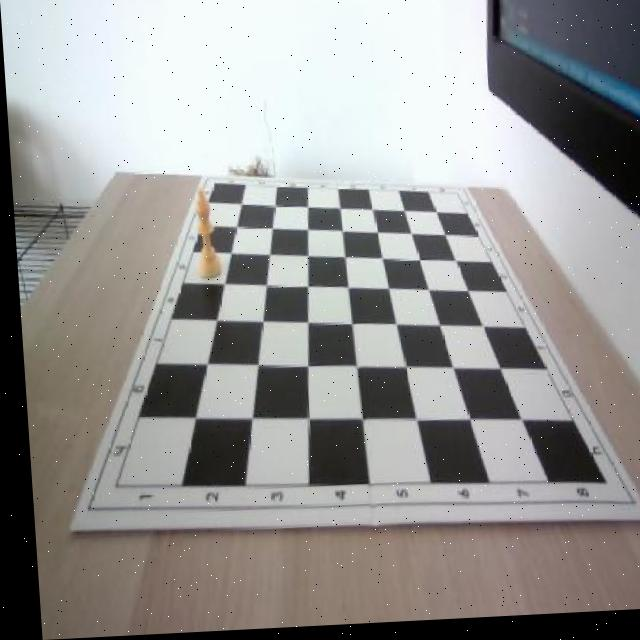black-rook: (187, 189, 218, 281)
